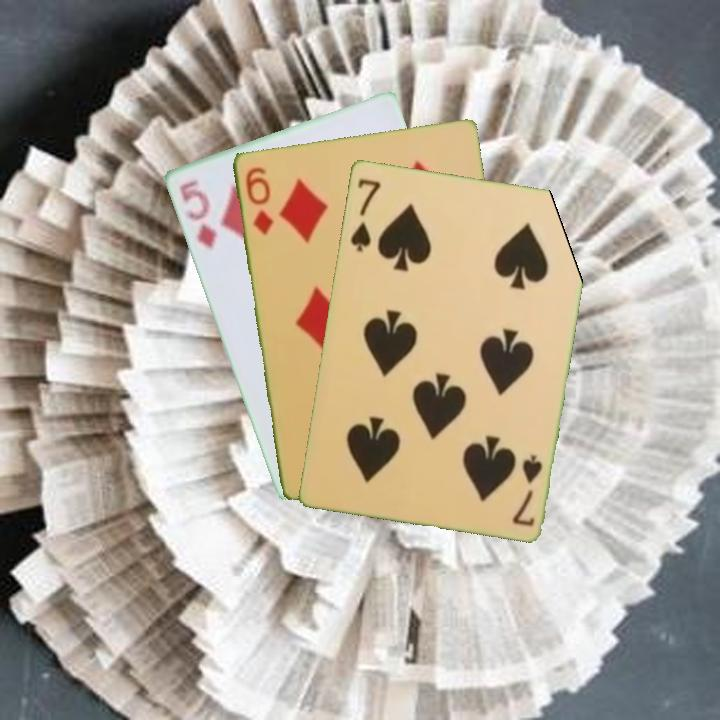5d: (175, 176, 220, 252)
6d: (241, 163, 276, 238)
7s: (346, 174, 383, 254), (508, 451, 545, 529)
